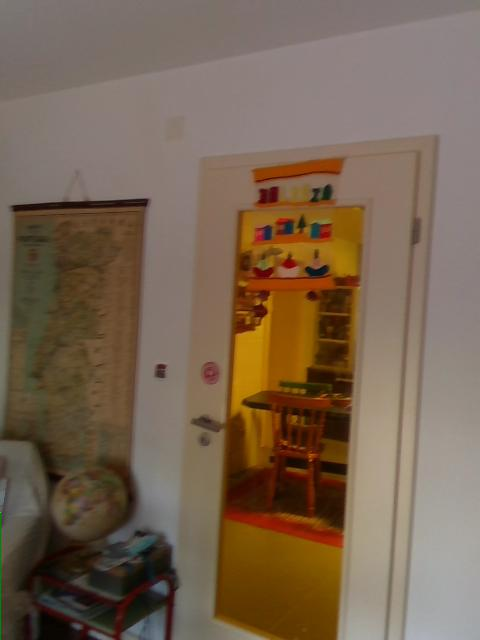door: (169, 135, 434, 639)
